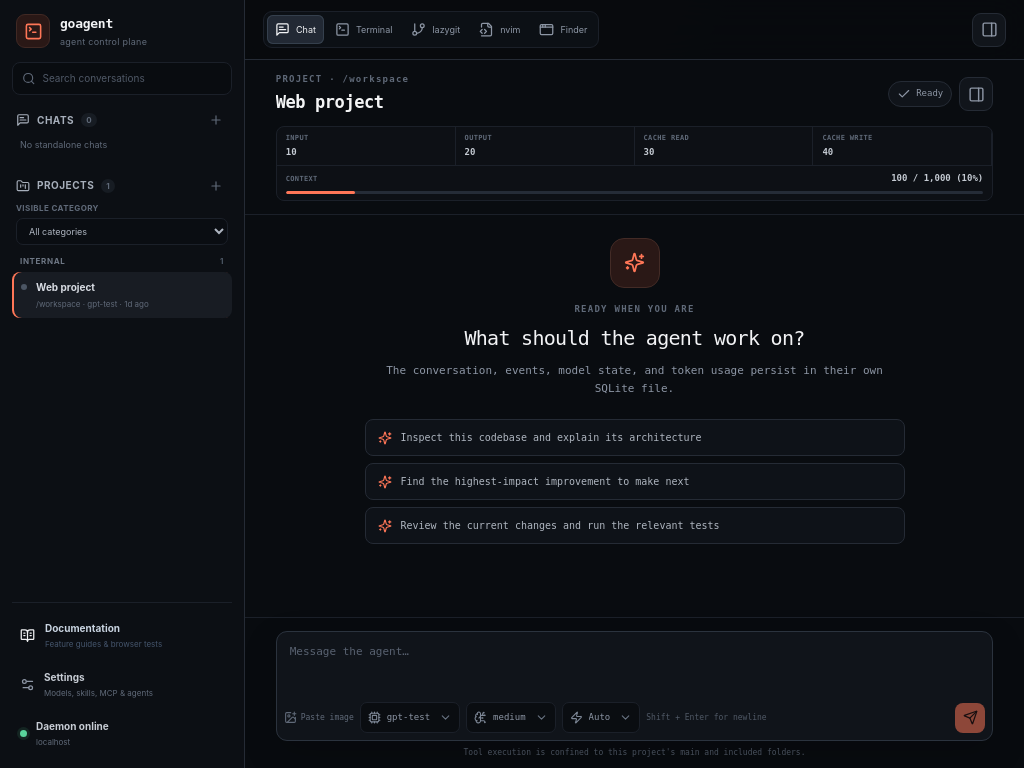
Test case: conversation composer › completes slash commands with the keyboard before executing them
(page scrolled)
Type "/thi" into the text box labelled "Message the agent" at (634, 664), box [277,632,992,697]
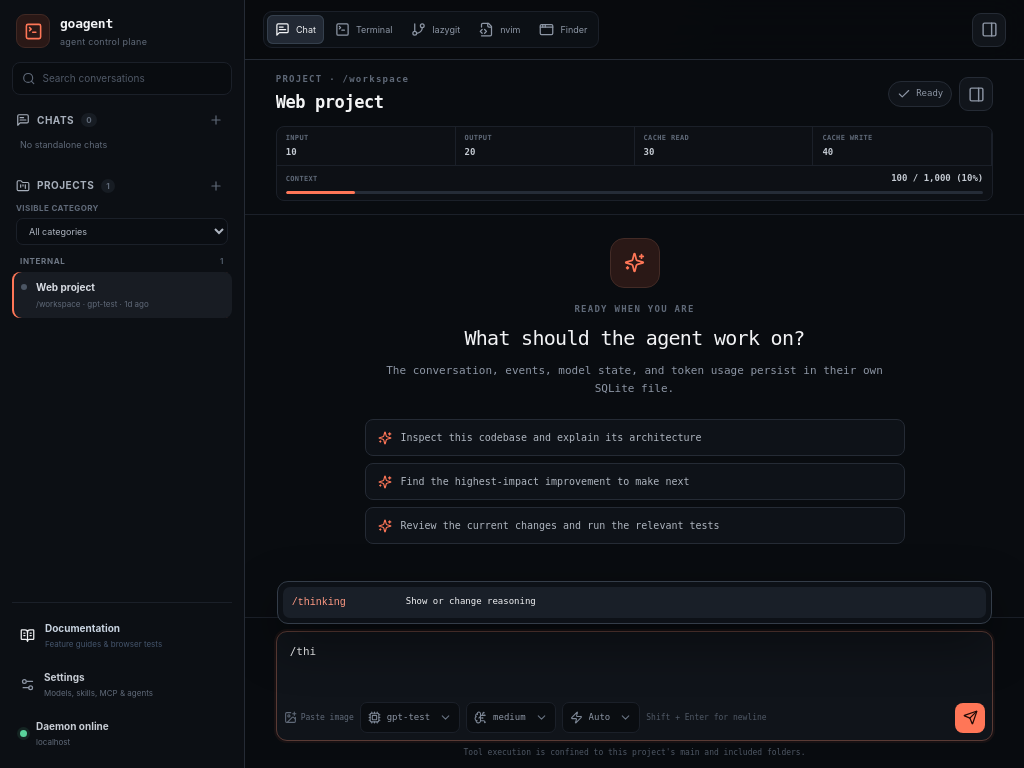
Check: the list named "Slash command suggestions" is shown, box [277,580,992,624]
Press Tab
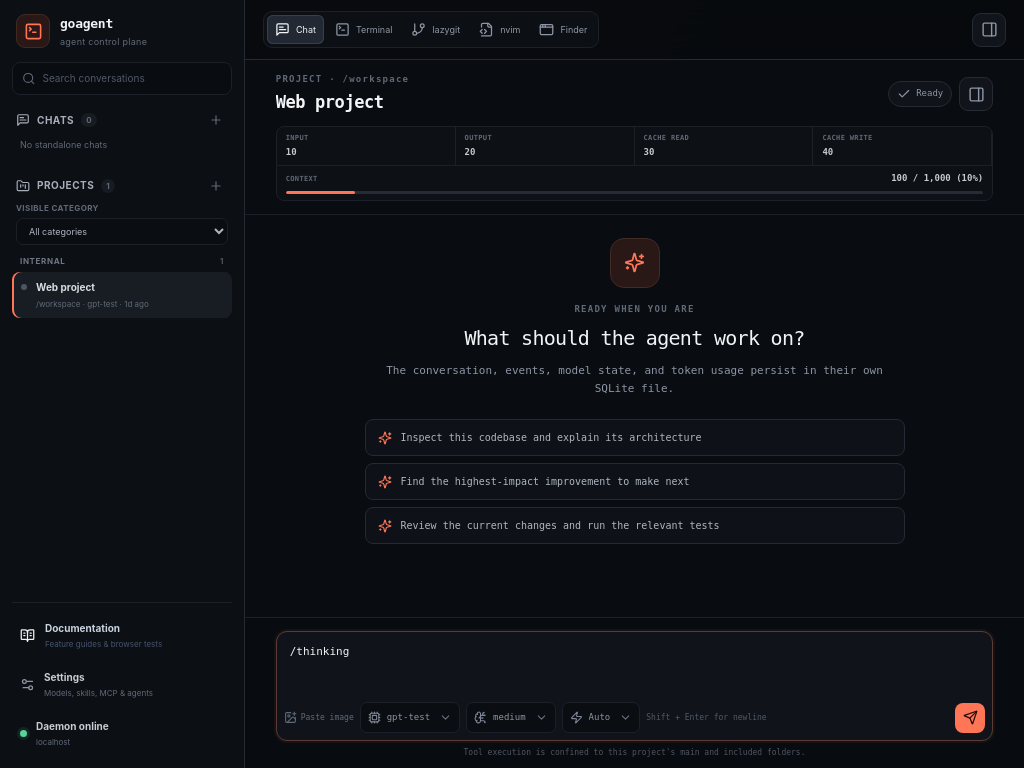
Check: the text box named "Message the agent" holds "/thinking "
Replace the text in the text box named "Message the agent" with "/he" at (634, 664), box [277,632,992,697]
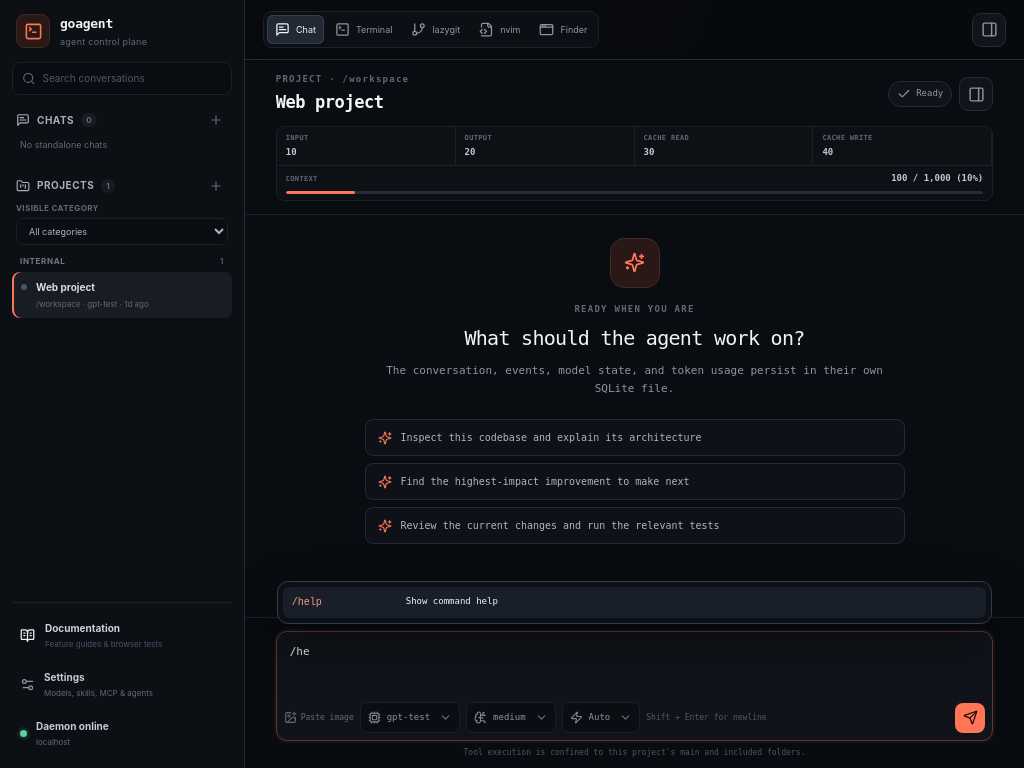
Press Enter
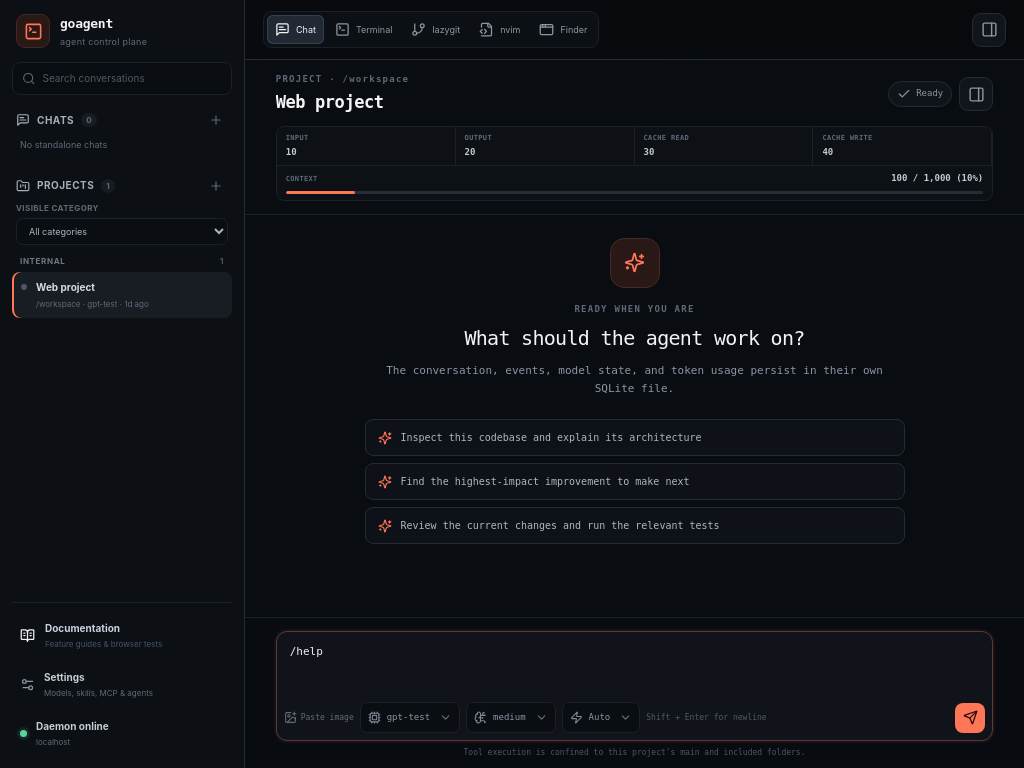
Check: the text box named "Message the agent" holds "/help", box [277,632,992,697]
Press Enter
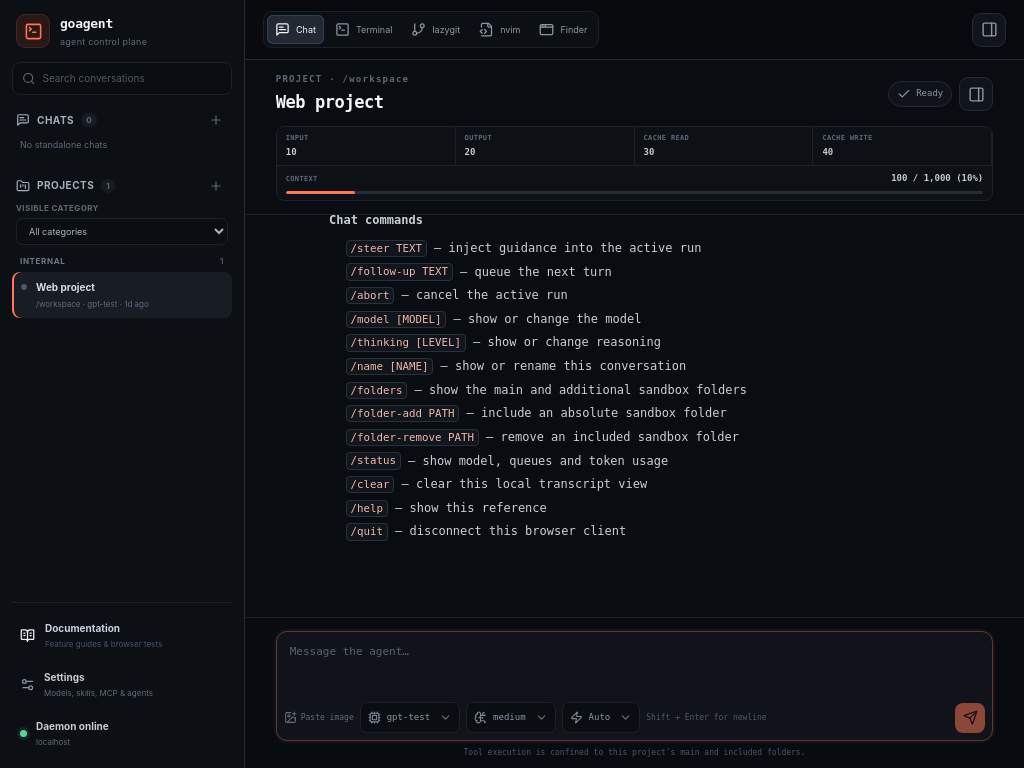
Check: the 6th text "Chat commands" is shown, box [329,214,423,226]
